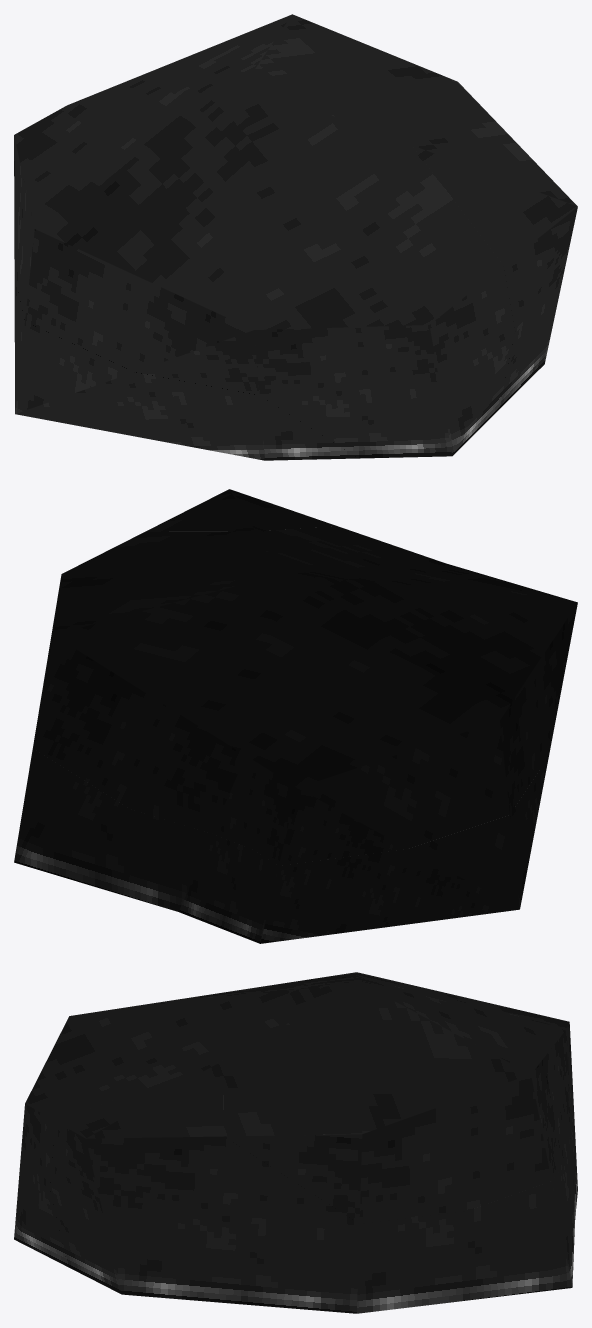
The model's file is PhatberetZ.obj.
3 renders of one model, top to bottom at view 1: azimuth 30°, elevation 25°; view 2: azimuth 150°, elevation 25°; view 3: azimuth 270°, elevation 25°, orthographic. The views are drawn at different scales.
Bounding box in the file's own units: 181 × 111 × 204.
1 material, 1 textured.
